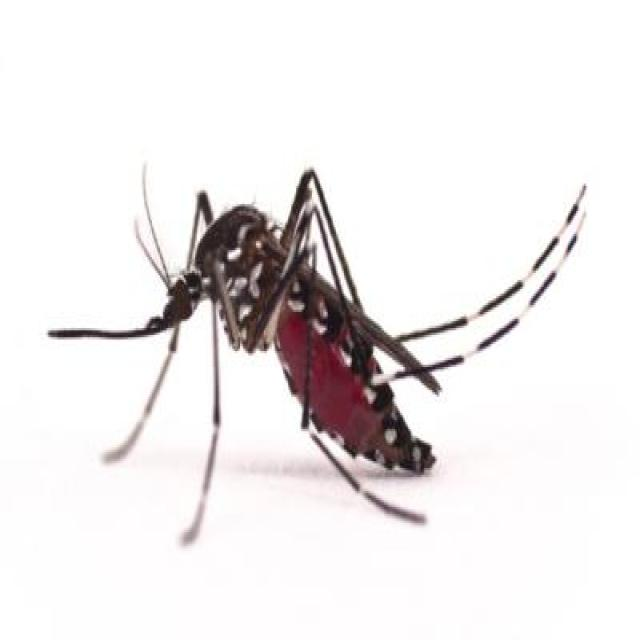antennae: (113, 158, 177, 293)
body: (168, 206, 437, 477)
insect: (42, 155, 590, 550)
legs: (374, 168, 587, 385), (96, 322, 237, 541), (286, 168, 364, 296)
mouthpart: (45, 277, 180, 363)
wings: (266, 230, 441, 392)
